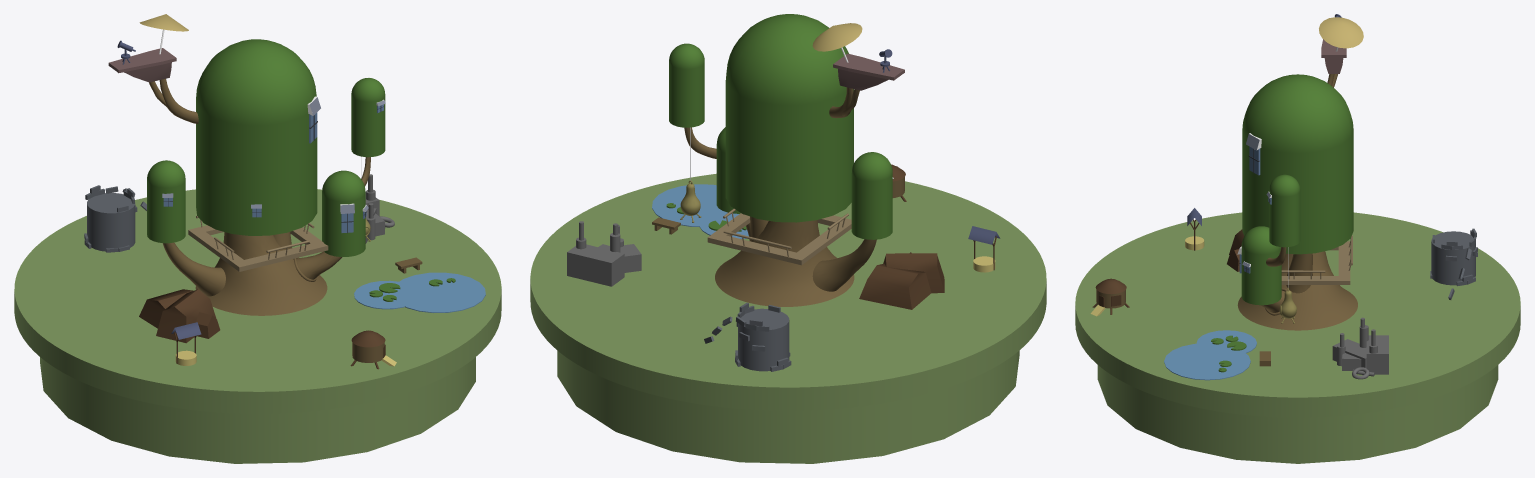
The model's file is the_treehouse_opt.glb.
The picture shows the model from 3 angles, left to right: view 1: azimuth 30°, elevation 25°; view 2: azimuth 150°, elevation 25°; view 3: azimuth 270°, elevation 25°; orthographic projection. The views are drawn at different scales.
Visible parts, largest first — view 1: pDisc1_trunkblinn_0, pPlane4; view 2: pDisc1_trunkblinn_0, pPlane4; view 3: pDisc1_trunkblinn_0, pPlane4.
Boxes of the visible parts, x1,y1,x2,y2 form: pDisc1_trunkblinn_0: (14, 14, 501, 463); pPlane4: (188, 225, 328, 271); pDisc1_trunkblinn_0: (530, 14, 1046, 463); pPlane4: (707, 213, 851, 265); pDisc1_trunkblinn_0: (1075, 14, 1520, 463); pPlane4: (1281, 241, 1350, 284).
Size of the model in its own units: 2 by 1.61 by 2.
Materials: 2 (2 with a texture image).
